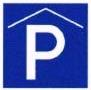Estacionamento autorizado: (2, 0, 89, 90)
